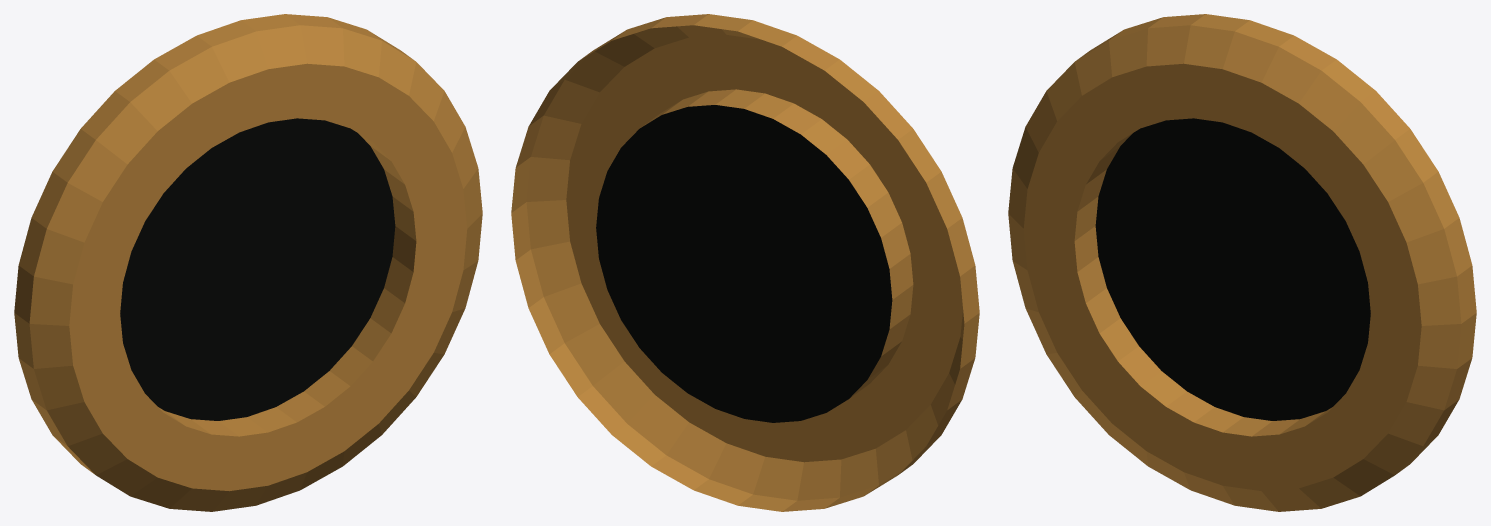
The model's file is Hole_Brass_Rim.obj.
3 renders of one model, left to right at view 1: azimuth 30°, elevation 25°; view 2: azimuth 150°, elevation 25°; view 3: azimuth 330°, elevation 25°, orthographic.
Visible parts, largest first — view 1: Hole_Brass_Rim; view 2: Hole_Brass_Rim; view 3: Hole_Brass_Rim.
Part boxes in pixels (x1,y1,x2,y2): Hole_Brass_Rim: (14,14,482,511); Hole_Brass_Rim: (511,14,979,511); Hole_Brass_Rim: (1008,14,1476,511).
Bounding box in the file's own units: 0.41 × 0.41 × 0.043.
